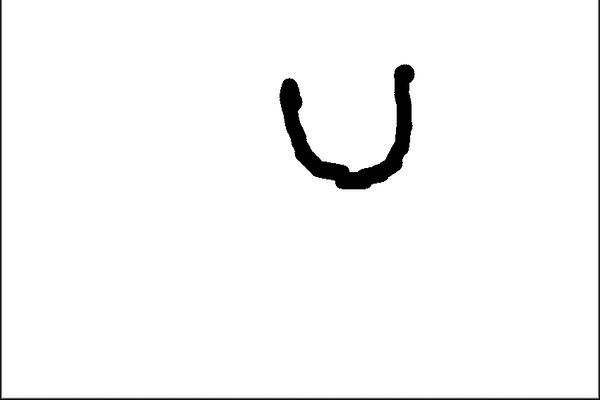U: (265, 58, 427, 189)
